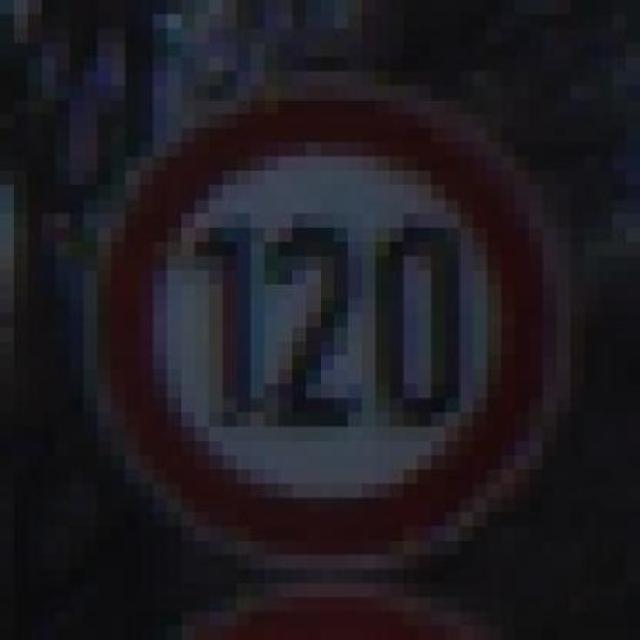forb_speed_over_120: (105, 102, 547, 556)
